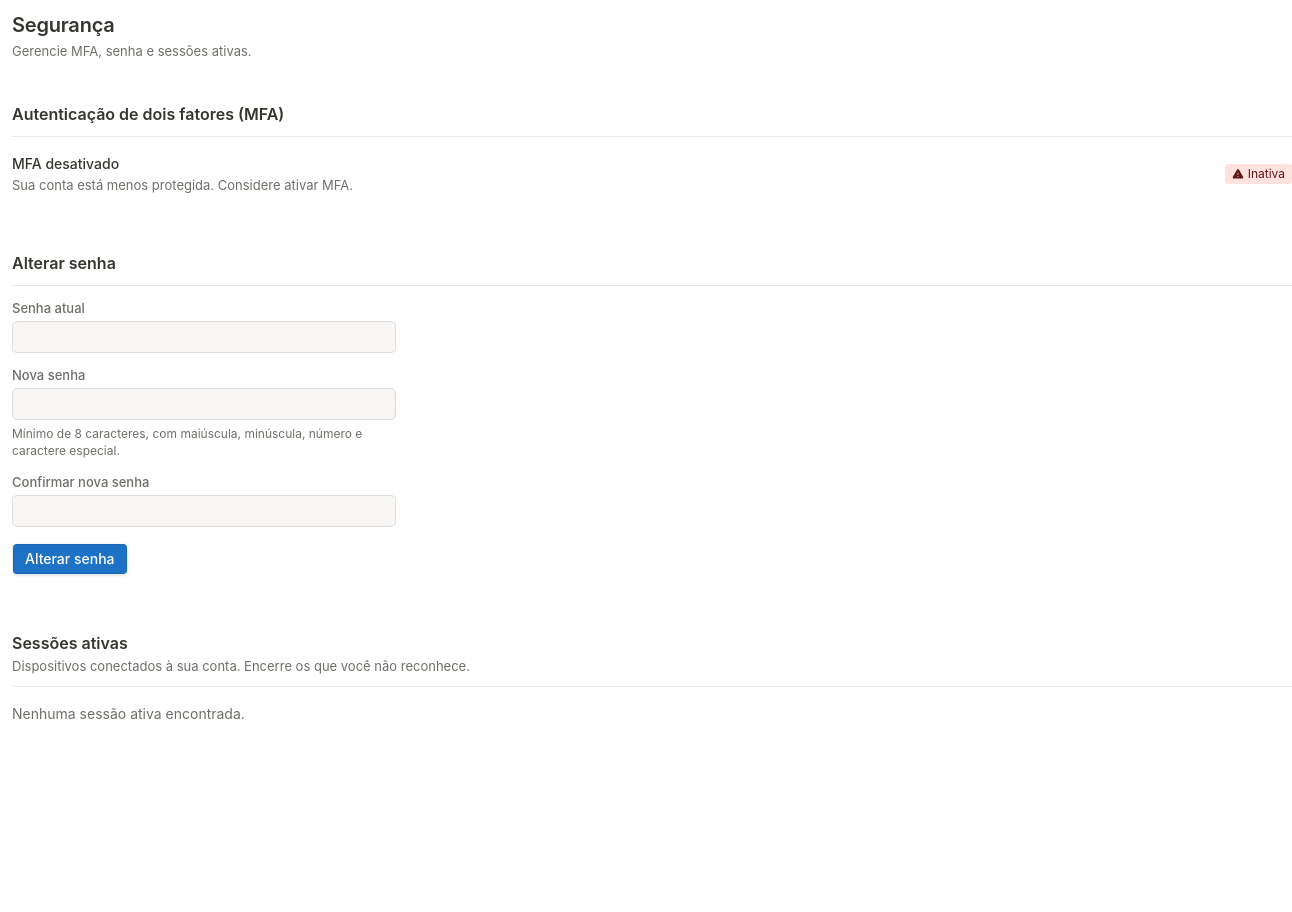
Test: SecurityTab — alterar senha › shows the API message when the current password is wrong
The image size is (1292, 912).
Type "Errada@123" into the password field labelled "Senha atual" at (204,337), box [12, 321, 396, 353]
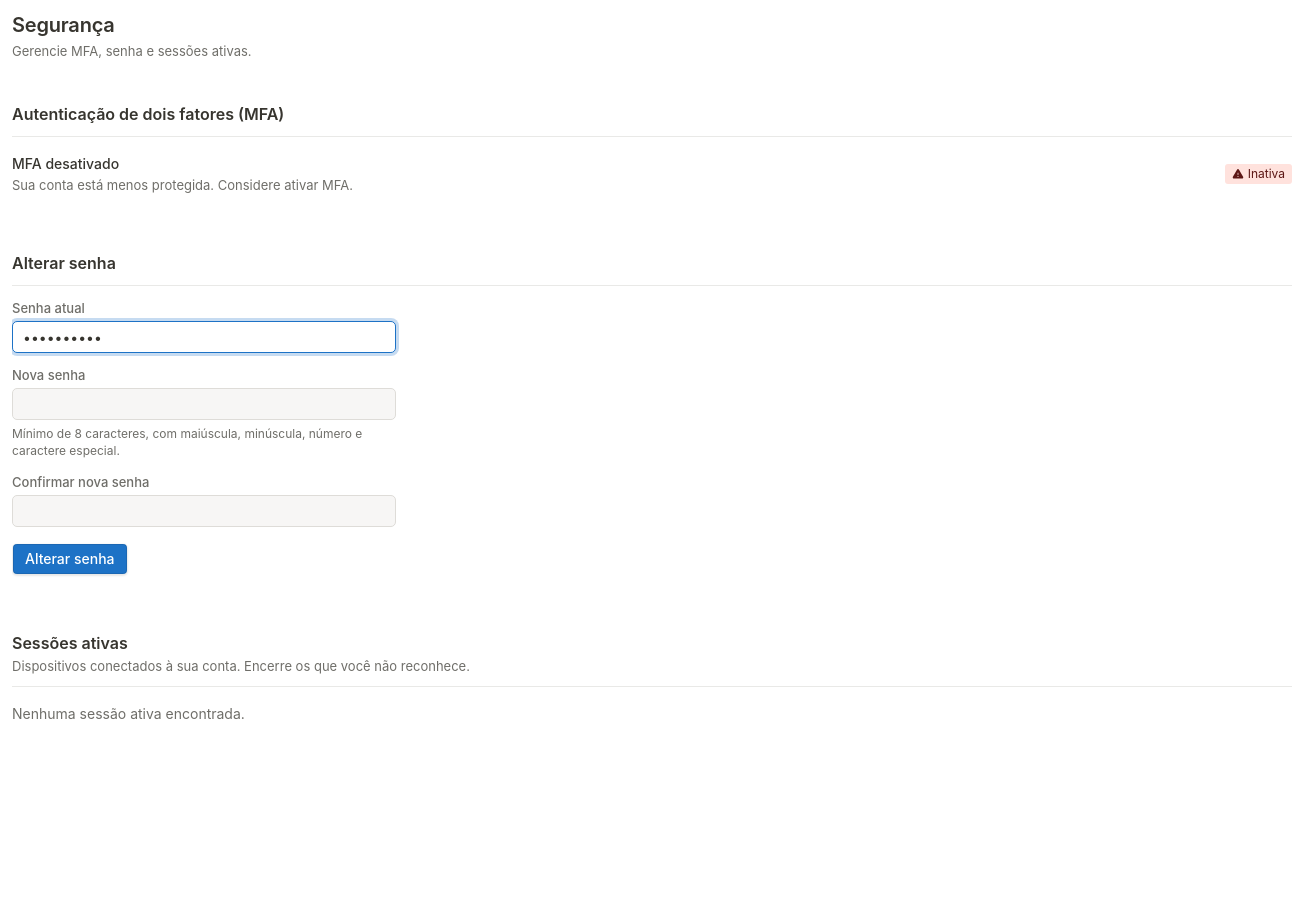
Type "NovaSenha@1" into the password field labelled "Nova senha" at (204,404), box [12, 388, 396, 420]
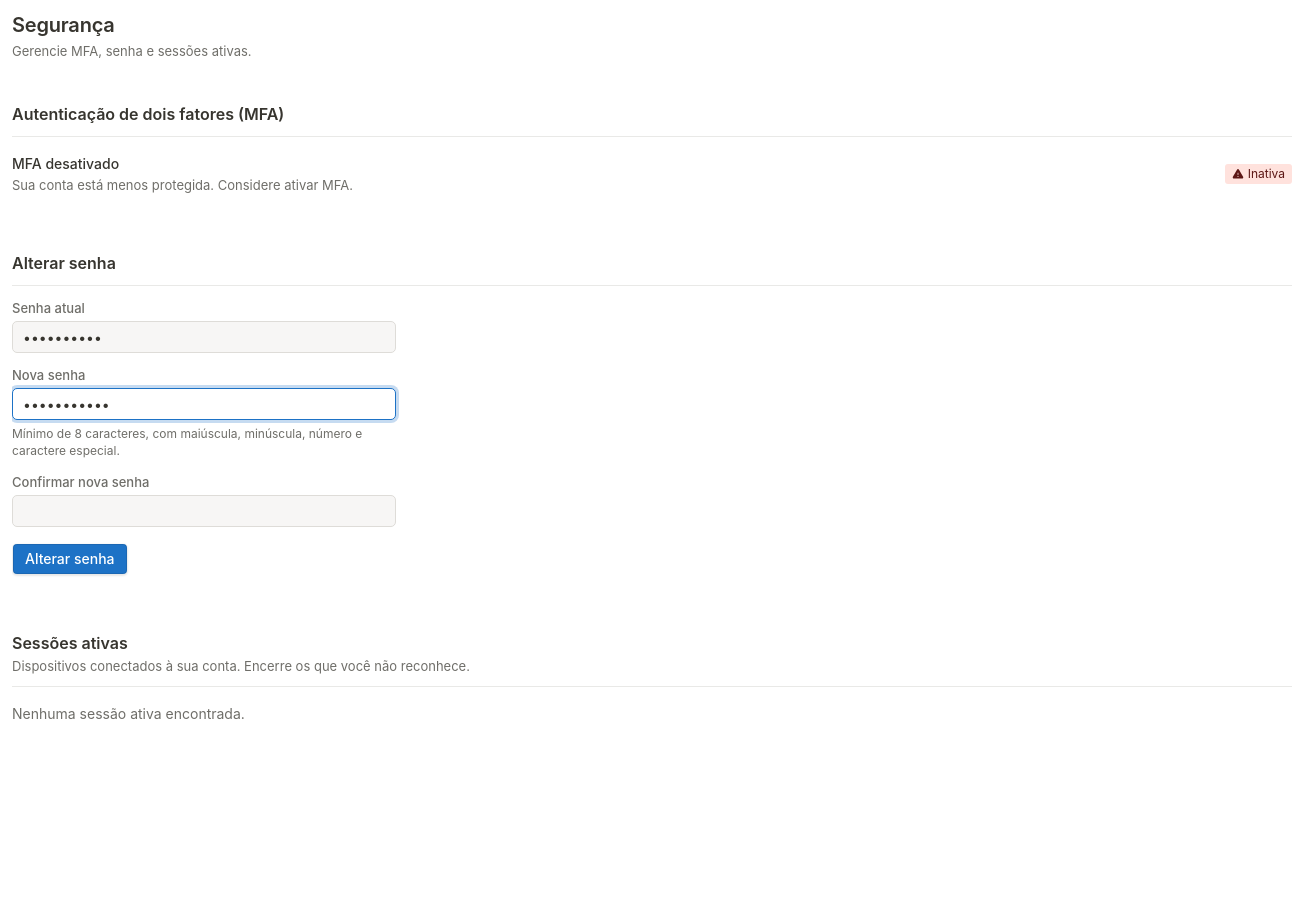
Type "NovaSenha@1" into the password field labelled "Confirmar nova senha" at (204,511), box [12, 495, 396, 527]
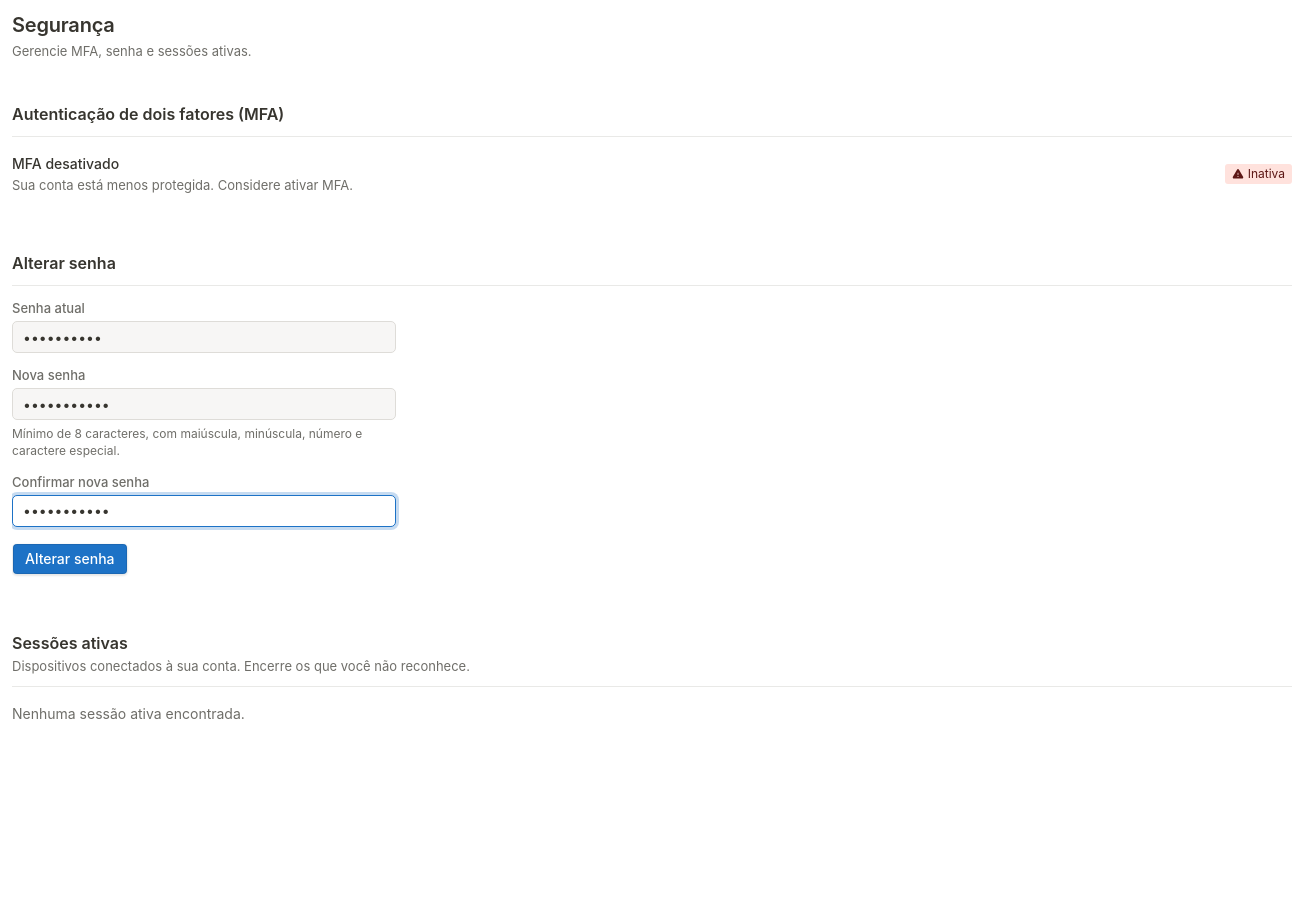
Click the button named "Alterar senha" at (70,559), box [12, 543, 128, 575]
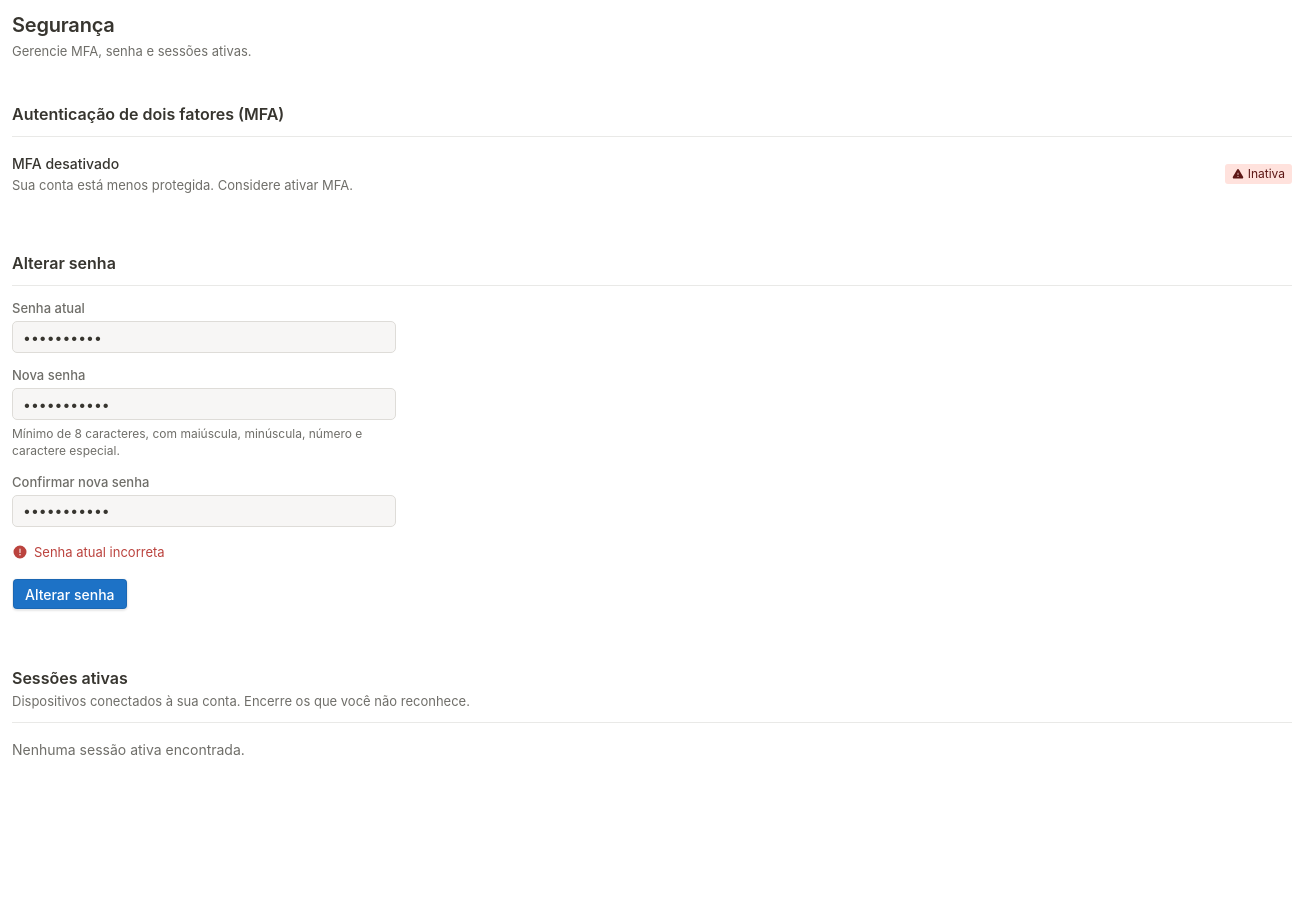
Check: the message reads "Senha atual incorreta", box [34, 544, 165, 560]
